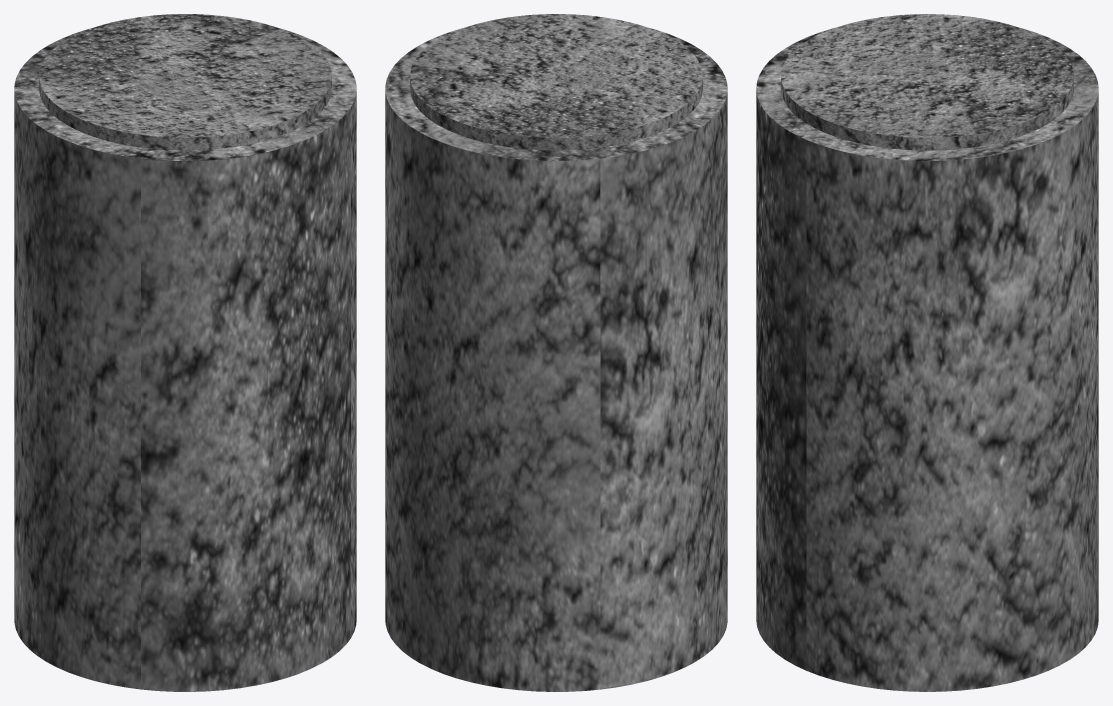
Rendered from ArenaWallWithRoof.fbx.
3 views of the same model, side by side, from view 1: azimuth 30°, elevation 25°; view 2: azimuth 150°, elevation 25°; view 3: azimuth 270°, elevation 25° (orthographic).
Parts seen in each view (by area): view 1: Cylinder.001, Cylinder.003; view 2: Cylinder.001, Cylinder.003; view 3: Cylinder.001, Cylinder.003.
Boxes of the visible parts, bbox=[...] form: Cylinder.001: bbox=[14, 28, 356, 691]; Cylinder.003: bbox=[39, 14, 331, 150]; Cylinder.001: bbox=[385, 28, 727, 691]; Cylinder.003: bbox=[410, 14, 702, 150]; Cylinder.001: bbox=[756, 28, 1098, 691]; Cylinder.003: bbox=[781, 14, 1073, 150].
Size of the model in its own units: 46.78 by 46.78 by 81.93.
Materials: 2 (2 with a texture image).
